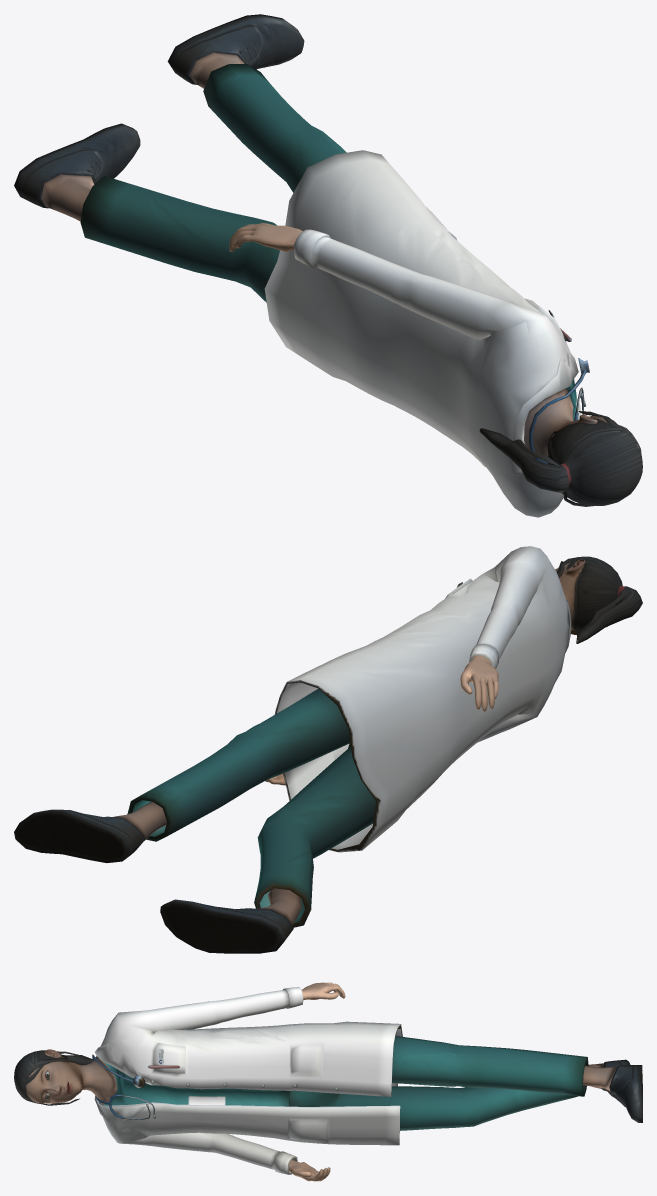
File: walk.obj
3 renders of one model, top to bottom at view 1: azimuth 30°, elevation 25°; view 2: azimuth 150°, elevation 25°; view 3: azimuth 270°, elevation 25°, orthographic. The views are drawn at different scales.
Bounding box in the file's own units: 0.6199 × 0.383 × 1.71.
1 material, 1 textured.
